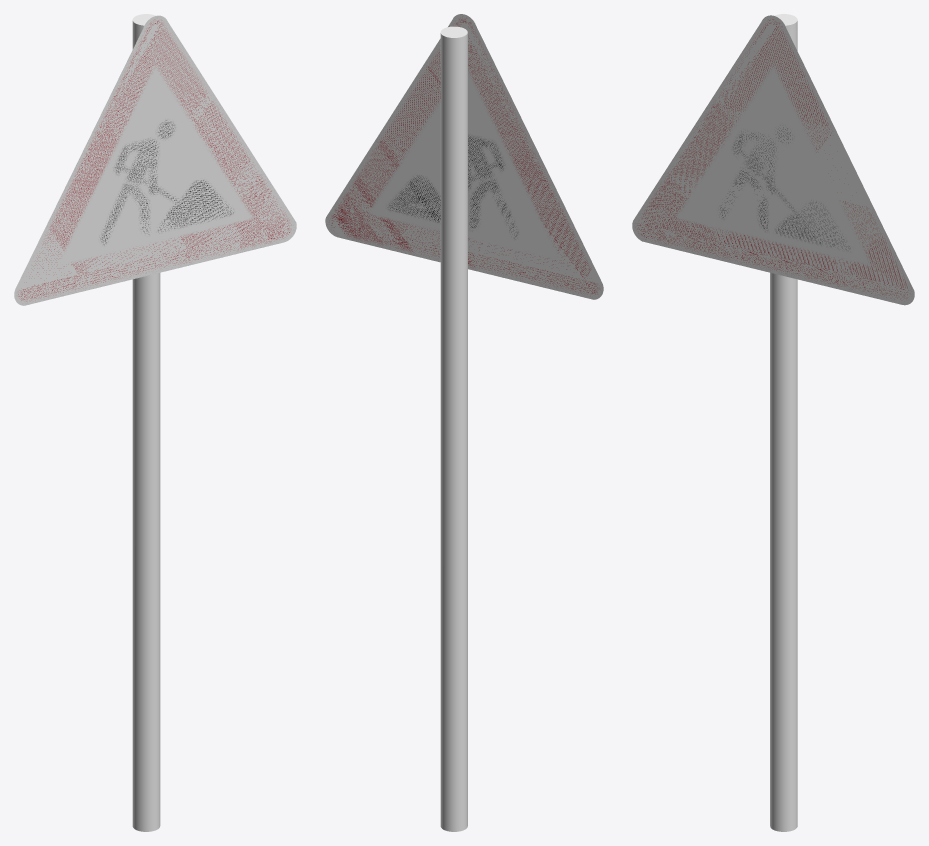
3 renders of one model, left to right at view 1: azimuth 30°, elevation 25°; view 2: azimuth 150°, elevation 25°; view 3: azimuth 330°, elevation 25°, orthographic.
Visible parts, largest first — view 1: SketchUp (×2); view 2: SketchUp (×2); view 3: SketchUp (×2).
Part boxes in pixels (x1=…): SketchUp (×2): x1=14, y1=14, x2=296, y2=831; SketchUp (×2): x1=325, y1=14, x2=603, y2=831; SketchUp (×2): x1=632, y1=14, x2=914, y2=831.
Bounding box in the file's own units: 74.37 × 7.6 × 206.
Materials: 2 (1 with a texture image).
